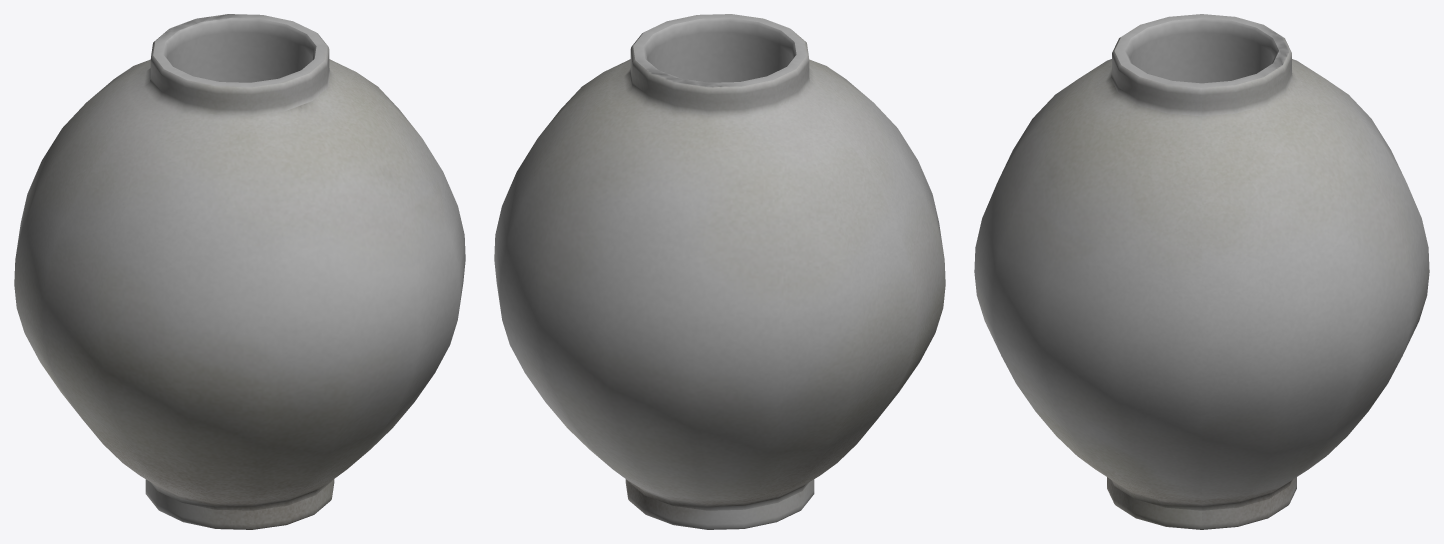
File: ceramic01.fbx
The picture shows the model from 3 angles, left to right: view 1: azimuth 30°, elevation 25°; view 2: azimuth 150°, elevation 25°; view 3: azimuth 270°, elevation 25°; orthographic projection.
Parts seen in each view (by area): view 1: ceramic01_low; view 2: ceramic01_low; view 3: ceramic01_low.
Part boxes in pixels (bbox=[...]): ceramic01_low: bbox=[14, 14, 465, 529]; ceramic01_low: bbox=[494, 14, 945, 529]; ceramic01_low: bbox=[974, 14, 1429, 529].
Size of the model in its own units: 46.32 by 49.48 by 46.32.
